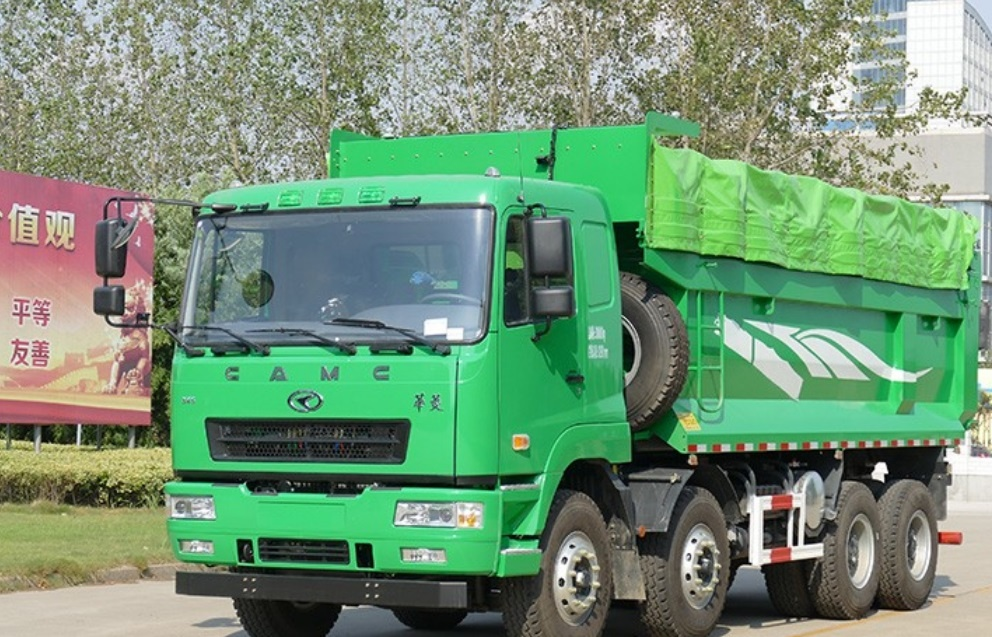heavy truck: (119, 115, 983, 637)
